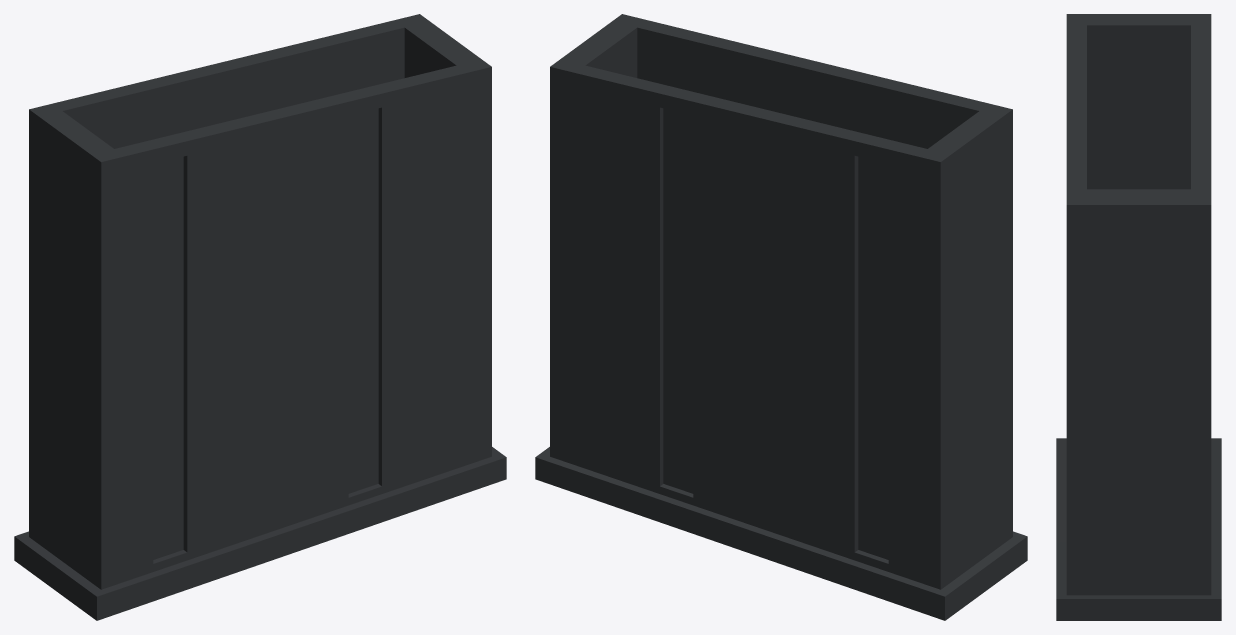
Rendered from SniperRifle1_04_2.fbx.
3 renders of one model, left to right at view 1: azimuth 30°, elevation 25°; view 2: azimuth 150°, elevation 25°; view 3: azimuth 270°, elevation 25°, orthographic.
Visible parts, largest first — view 1: SniperRifle1_04_2; view 2: SniperRifle1_04_2; view 3: SniperRifle1_04_2.
Boxes of the visible parts, x1,y1,x2,y2 form: SniperRifle1_04_2: [14, 14, 506, 620]; SniperRifle1_04_2: [535, 14, 1027, 620]; SniperRifle1_04_2: [1056, 14, 1221, 620].
Bounding box in the file's own units: 0.1087 × 0.1147 × 0.0379.
